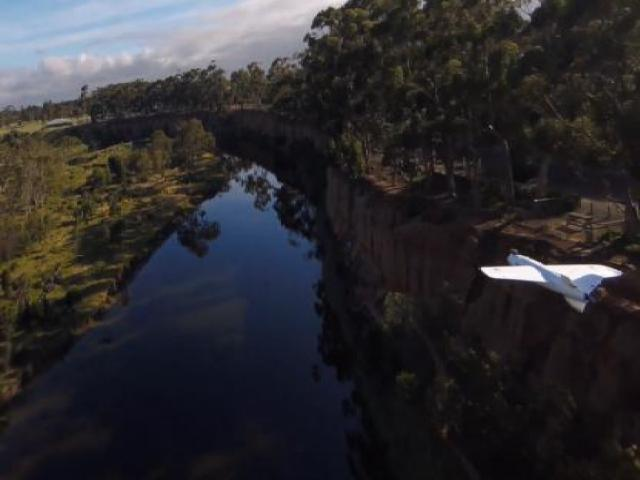uav: (479, 250, 624, 311)
